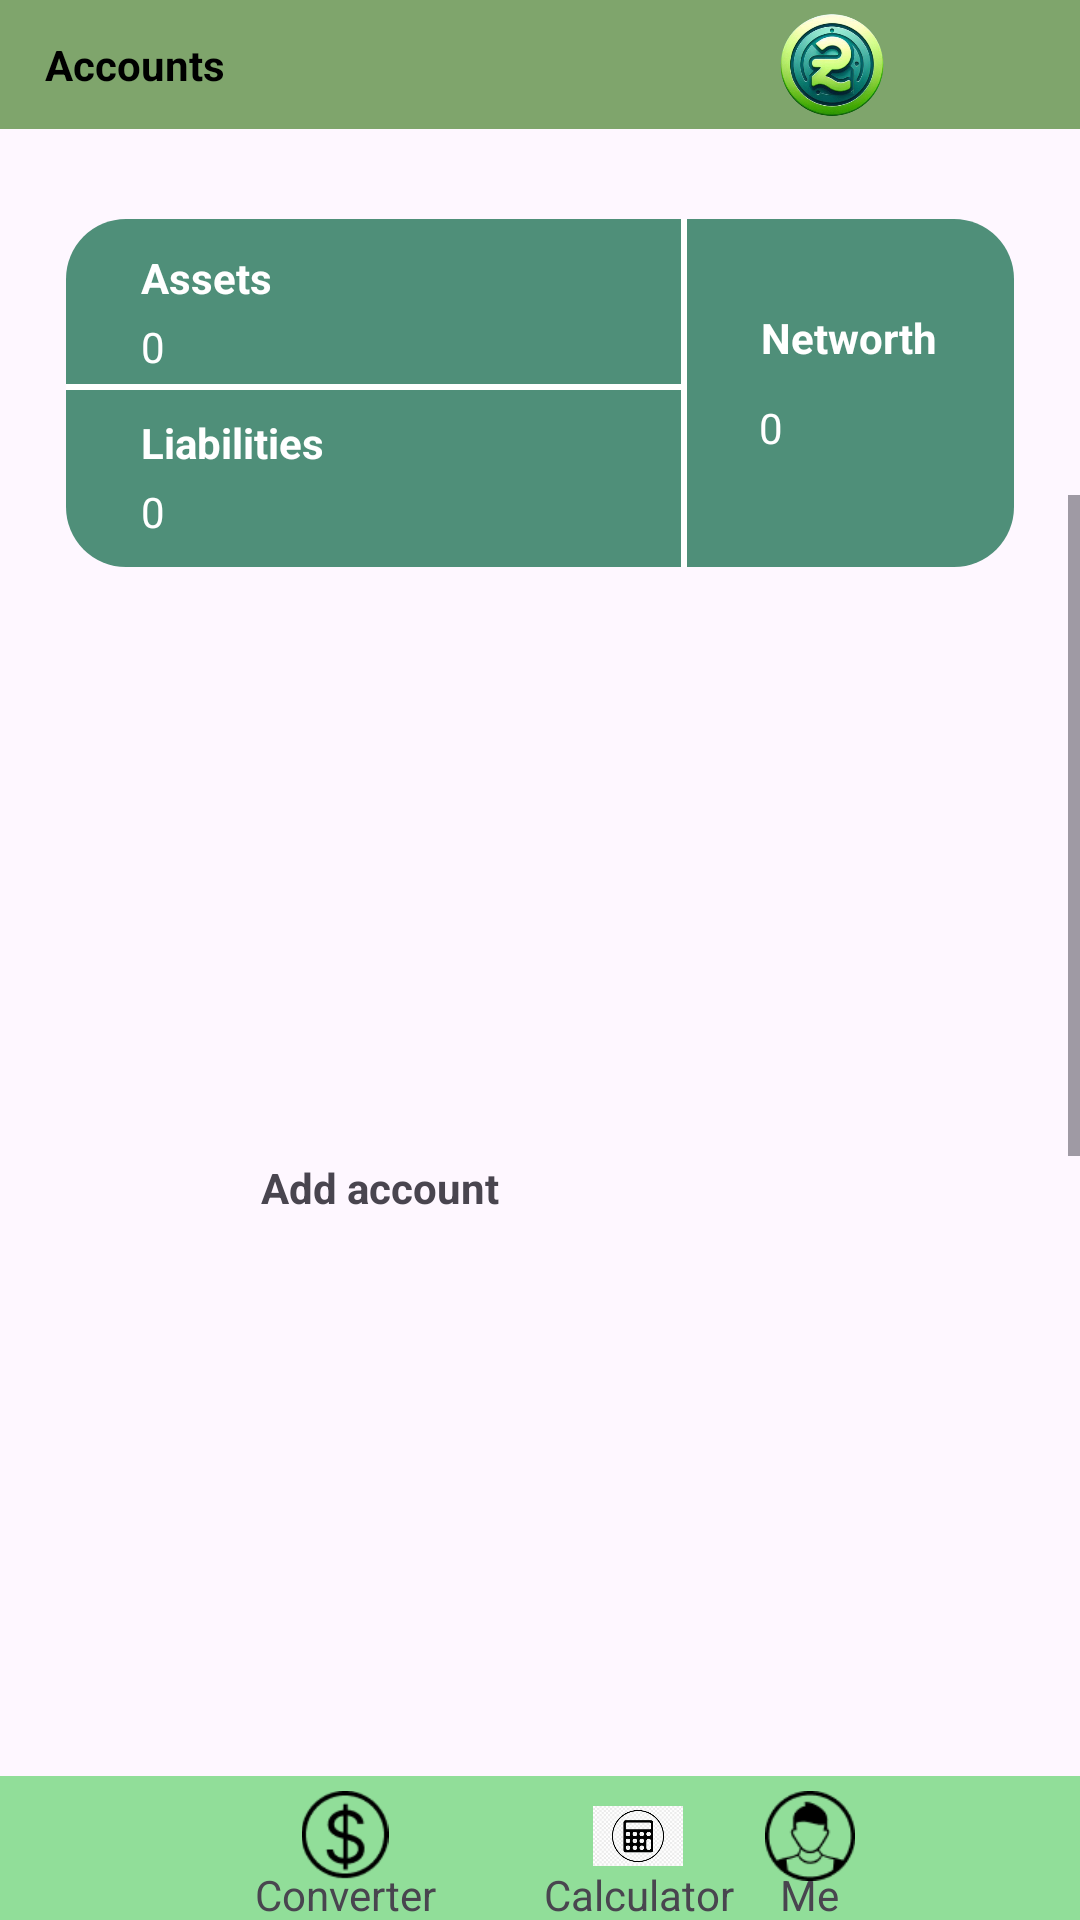

Icons on this 1080×1920 Android screen, each with its box as (x1, y1, x2, y2):
profile: (765, 1791, 855, 1881)
